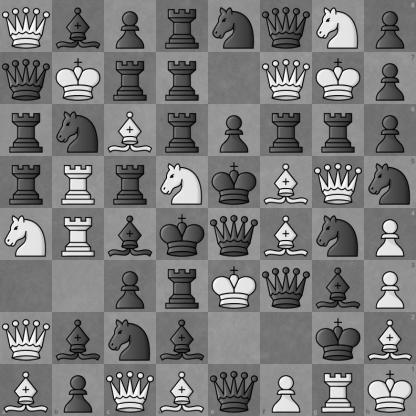B: (156, 364, 209, 416), (0, 364, 52, 416), (364, 312, 416, 364), (105, 105, 156, 156), (261, 157, 312, 208), (261, 209, 312, 260)
K: (364, 364, 416, 416), (53, 53, 104, 104), (209, 261, 260, 312), (313, 53, 364, 104)
N: (1, 209, 52, 260), (157, 157, 208, 208), (313, 1, 364, 52)
P: (260, 364, 312, 416), (364, 260, 416, 312), (364, 209, 416, 260)
Q: (104, 364, 156, 416), (1, 1, 52, 52), (1, 313, 52, 364), (261, 53, 312, 104), (313, 157, 364, 208)
R: (312, 364, 364, 416), (53, 157, 104, 208), (53, 209, 104, 260)
b: (53, 1, 104, 52), (53, 313, 104, 364), (105, 209, 156, 260), (157, 313, 208, 364), (313, 261, 364, 312)
board: (0, 0, 415, 415)
k: (157, 209, 208, 260), (209, 157, 260, 208), (313, 313, 364, 364)
n: (364, 156, 416, 209), (53, 105, 104, 156), (105, 313, 156, 364), (209, 1, 260, 52), (313, 209, 364, 260)
p: (52, 364, 104, 416), (364, 0, 416, 52), (364, 52, 416, 104), (364, 104, 416, 156), (105, 1, 156, 52), (105, 261, 156, 312), (209, 105, 260, 156)
q: (209, 364, 260, 416), (1, 53, 52, 104), (209, 209, 260, 260), (261, 1, 312, 52), (261, 261, 312, 312)
r: (1, 105, 52, 156), (1, 157, 52, 208), (105, 53, 156, 104), (105, 157, 156, 208), (157, 1, 208, 52), (157, 53, 208, 104), (157, 105, 208, 156), (157, 261, 208, 312), (261, 105, 312, 156), (313, 105, 364, 156)
